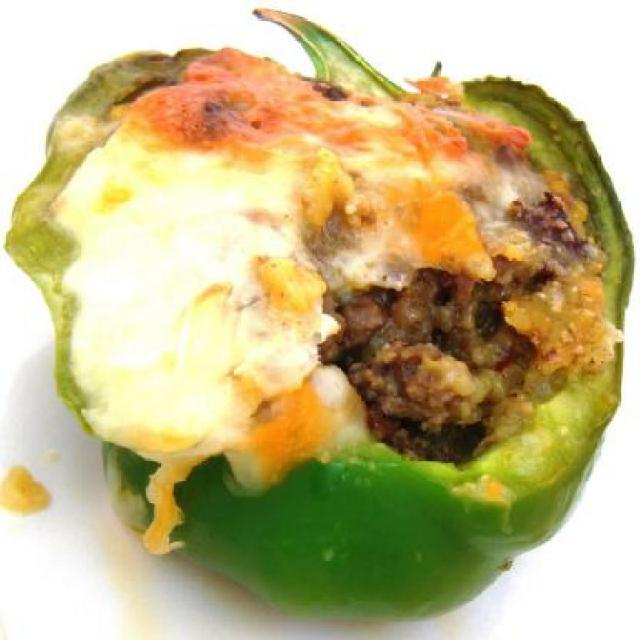Bell pepper: (5, 2, 632, 618)
